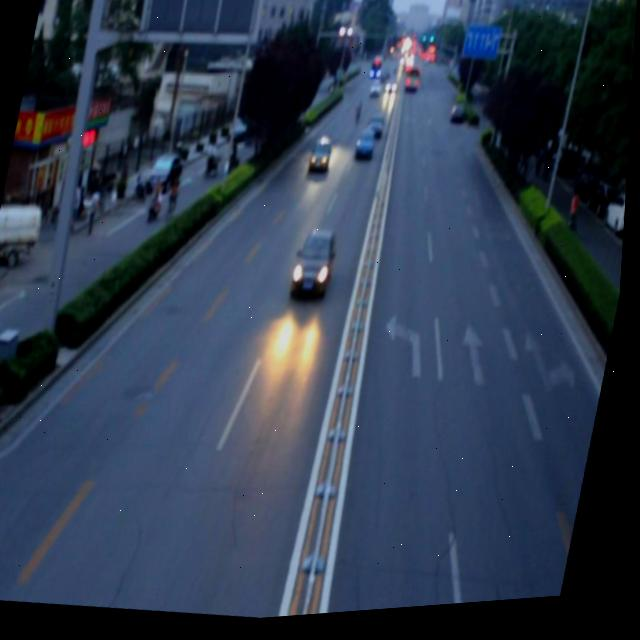car: (290, 224, 346, 306), (308, 137, 337, 180), (354, 132, 380, 167)
